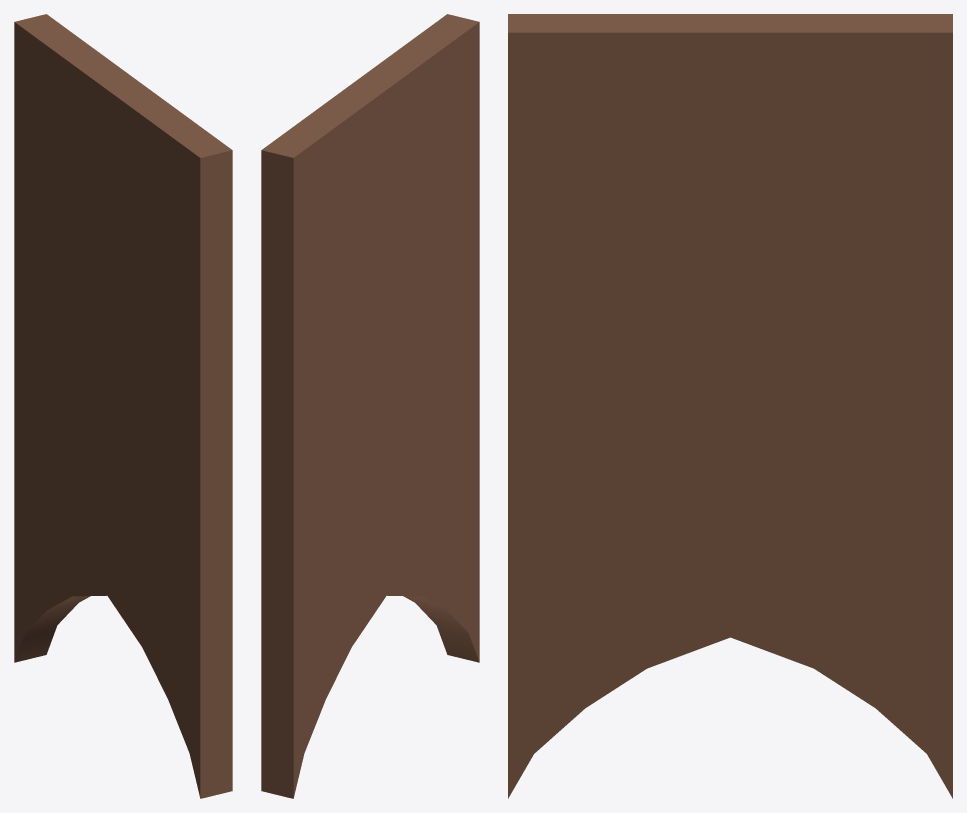
File: Temple_midwall.fbx
The picture shows the model from 3 angles, left to right: view 1: azimuth 30°, elevation 25°; view 2: azimuth 150°, elevation 25°; view 3: azimuth 270°, elevation 25°; orthographic projection. The views are drawn at different scales.
Parts seen in each view (by area): view 1: Temple wall_above door.001; view 2: Temple wall_above door.001; view 3: Temple wall_above door.001.
Boxes of the visible parts, x1,y1,x2,y2 form: Temple wall_above door.001: (14, 14, 232, 798); Temple wall_above door.001: (261, 14, 479, 798); Temple wall_above door.001: (508, 14, 952, 798).
Size of the model in its own units: 1 by 19.01 by 10.
